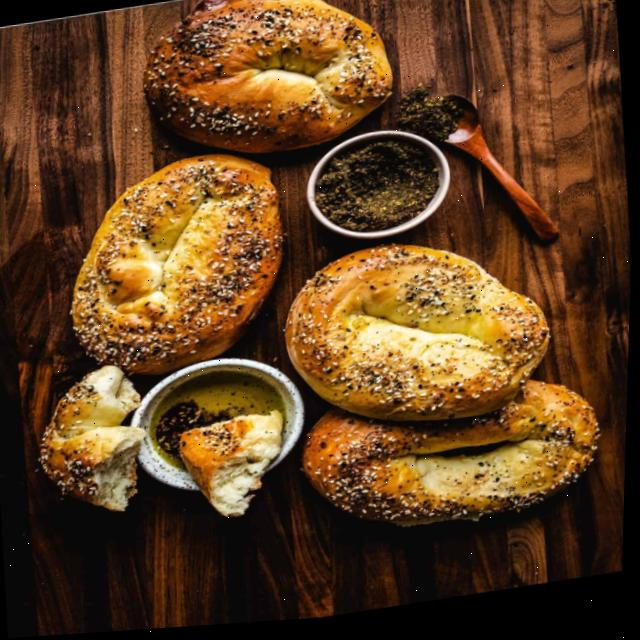Bagel: (287, 250, 551, 427), (73, 157, 284, 376), (306, 388, 601, 531), (144, 0, 392, 156), (42, 367, 147, 513)
